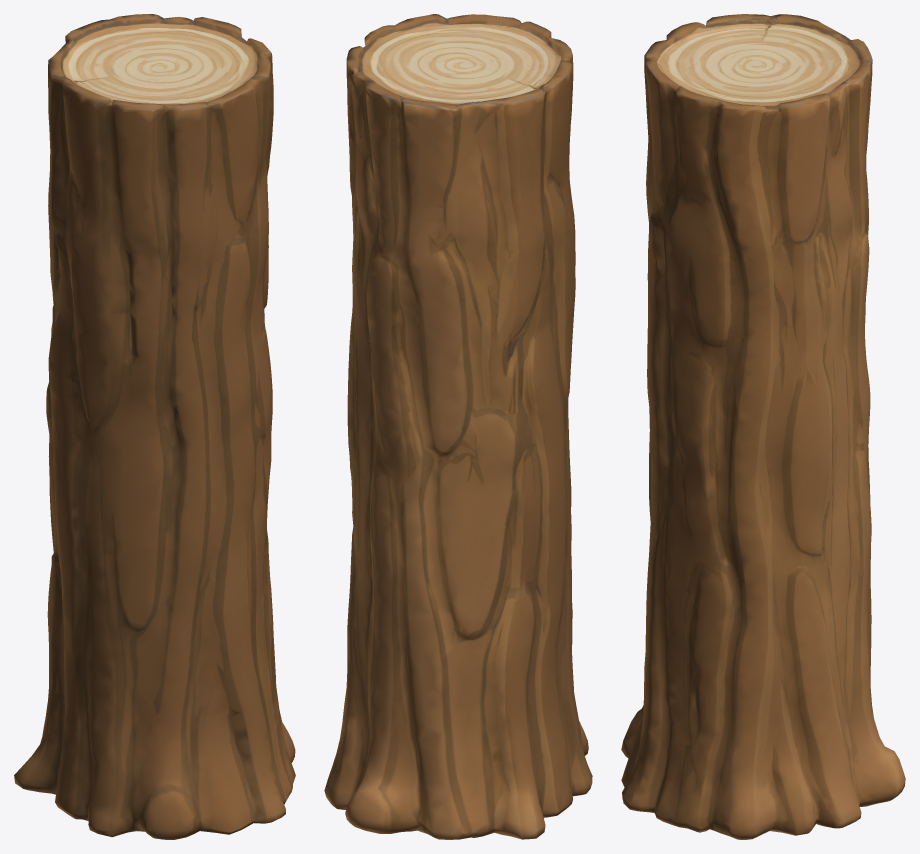
The model's file is Env_TrunkPillar.fbx.
3 views of the same model, side by side, from view 1: azimuth 30°, elevation 25°; view 2: azimuth 150°, elevation 25°; view 3: azimuth 270°, elevation 25° (orthographic).
Parts seen in each view (by area): view 1: texture_mapping; view 2: texture_mapping; view 3: texture_mapping.
Boxes of the visible parts, x1,y1,x2,y2 form: texture_mapping: (14, 14, 295, 839); texture_mapping: (324, 14, 592, 839); texture_mapping: (621, 14, 905, 839).
Size of the model in its own units: 0.3371 by 0.3553 by 1.
1 material, 1 textured.
